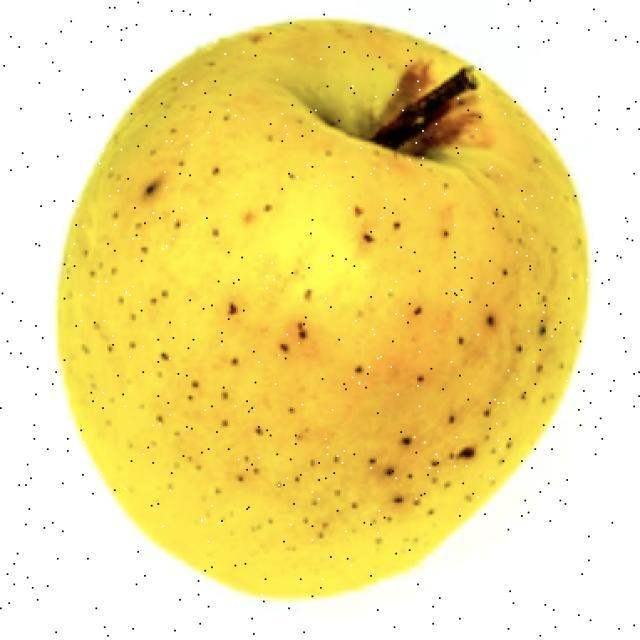Rotten: (85, 52, 573, 588)
